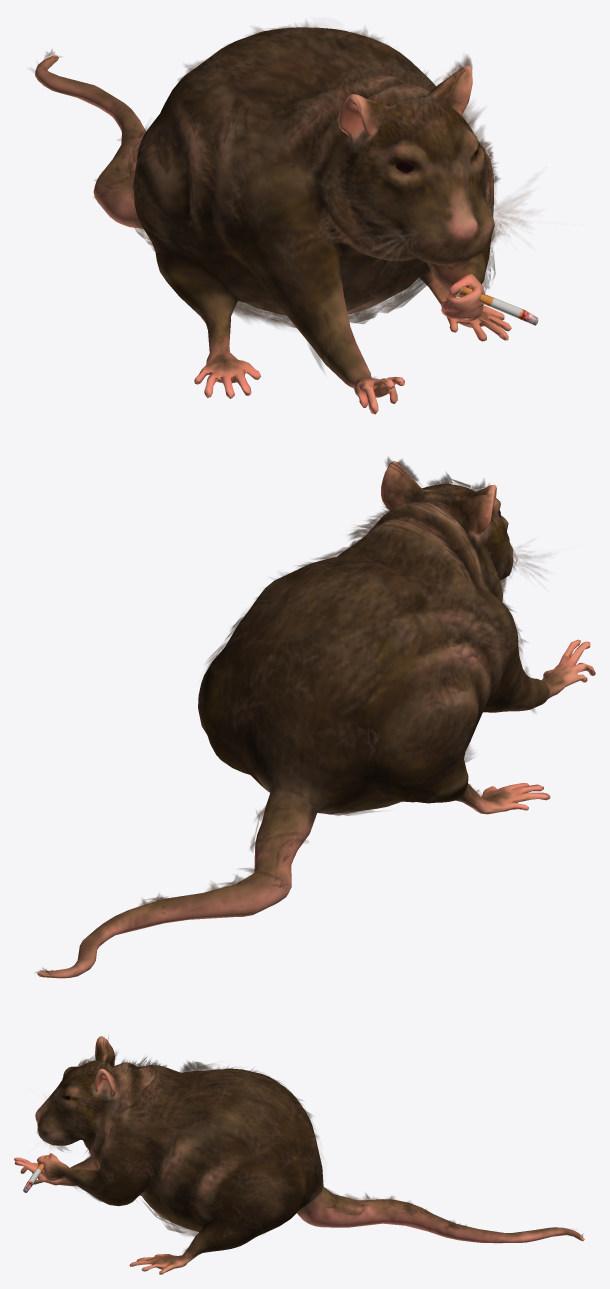
Rendered from fat-rat.glb.
3 renders of one model, top to bottom at view 1: azimuth 30°, elevation 25°; view 2: azimuth 150°, elevation 25°; view 3: azimuth 270°, elevation 25°, orthographic. The views are drawn at different scales.
Visible parts, largest first — view 1: polySurface14_ratMat_0, hair89_ratHair_0; view 2: polySurface14_ratMat_0, hair89_ratHair_0; view 3: polySurface14_ratMat_0, hair89_ratHair_0.
Part boxes in pixels (<box>): polySurface14_ratMat_0: <box>35,27,538,414</box>; hair89_ratHair_0: <box>32,21,531,370</box>; polySurface14_ratMat_0: <box>37,461,595,978</box>; hair89_ratHair_0: <box>34,457,544,975</box>; polySurface14_ratMat_0: <box>14,1036,584,1274</box>; hair89_ratHair_0: <box>36,1037,582,1256</box>.
Bounding box in the file's own units: 14.36 × 13.8 × 37.75.
2 materials, 2 textured.
